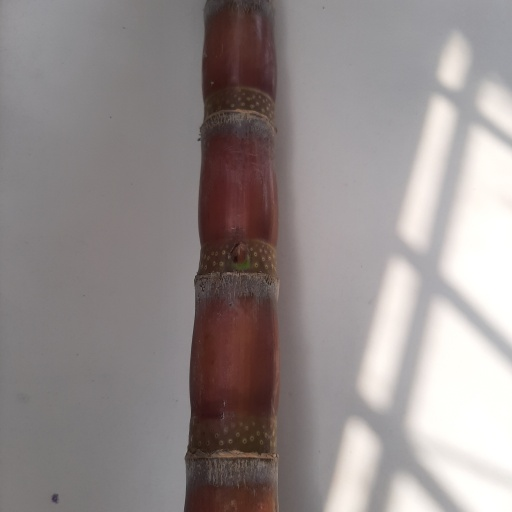Bud: (228, 240, 248, 266)
